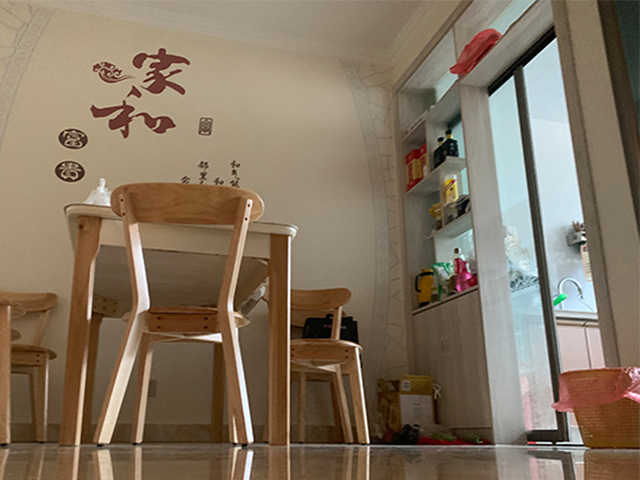cabinet: (407, 301, 491, 445)
stool: (91, 181, 265, 451), (289, 287, 371, 447), (1, 291, 59, 443)
table: (57, 202, 300, 447)
trashcan: (560, 368, 640, 452)
